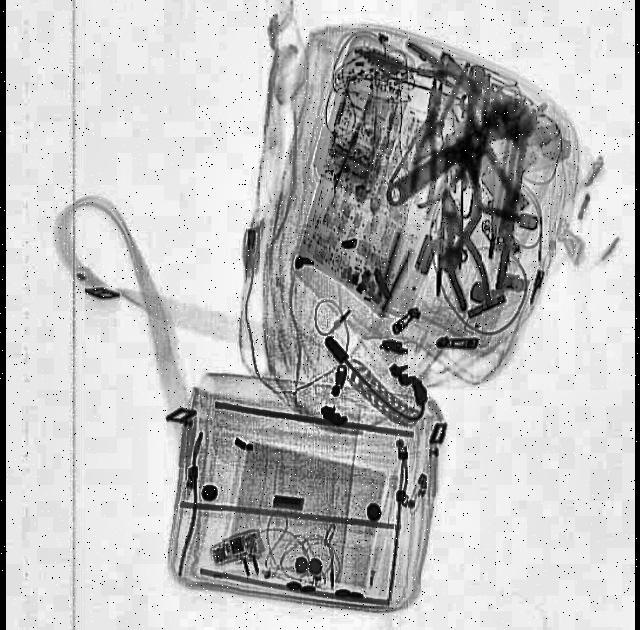Pliers: (426, 184, 490, 316), (402, 79, 448, 209)
Wrench: (373, 84, 543, 218)
